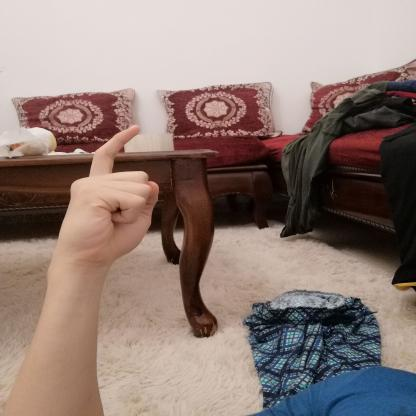RAA: (43, 118, 170, 271)
